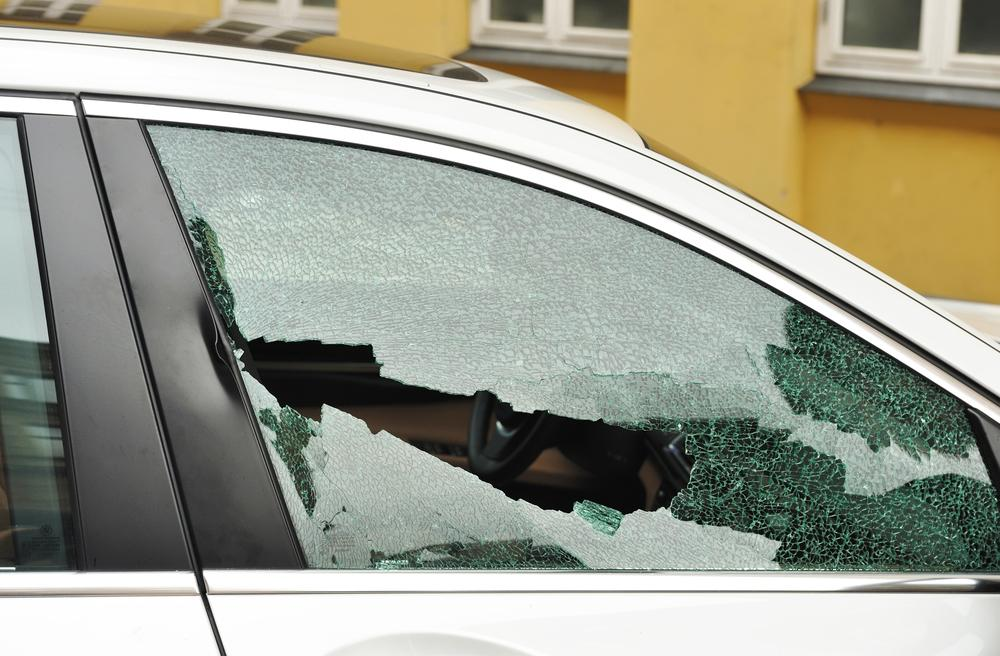glass shatter: (145, 123, 1000, 573)
